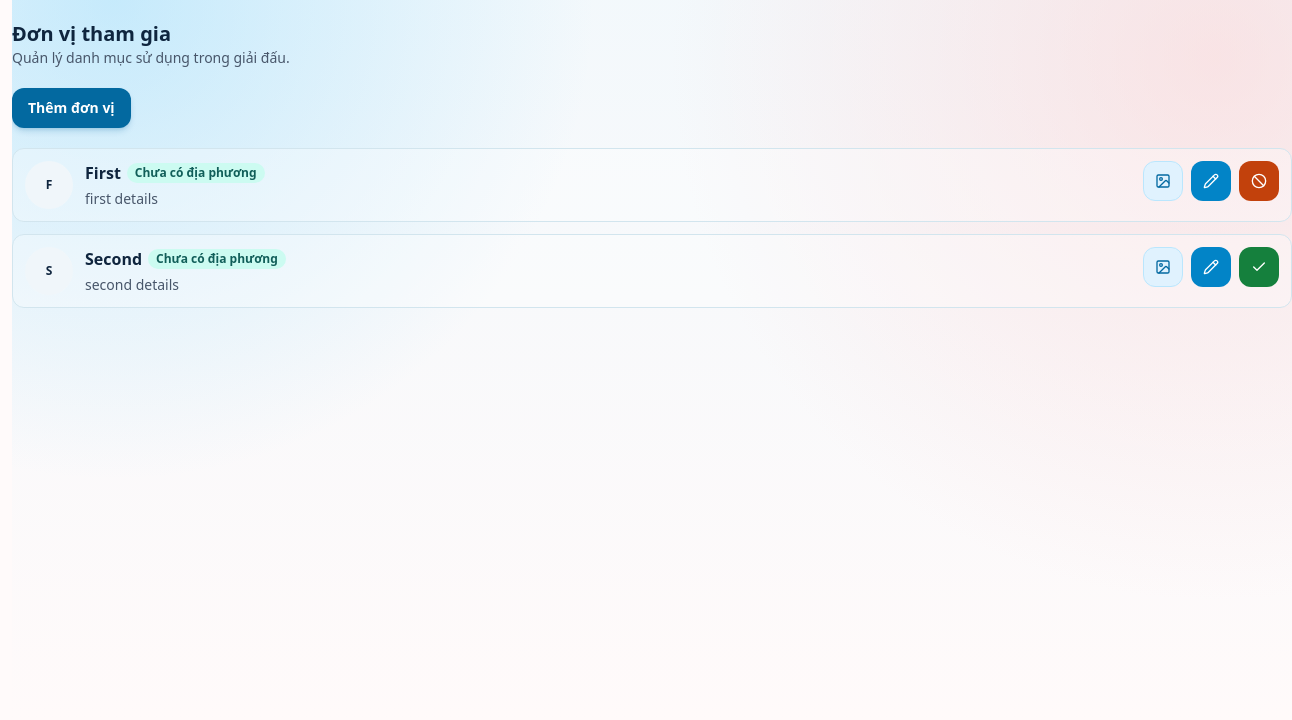
Test: RosterItemsPage › keeps failed updates for correction and shows the mapped error
Click the button named "Sửa" in the row of "first details".
click(1211, 181)  # box [1191,161,1231,201]
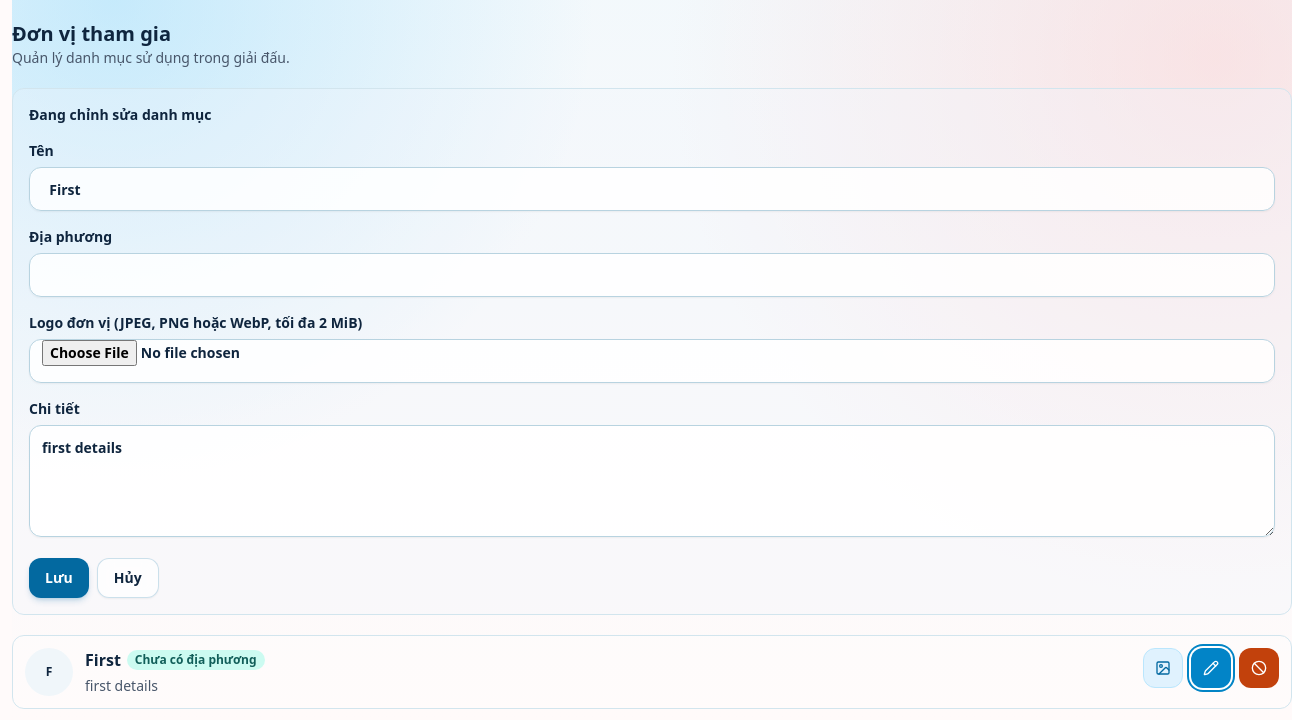
Replace the text in the field labelled "Tên" with "Changed" at (652,189), box [29,167,1275,211]
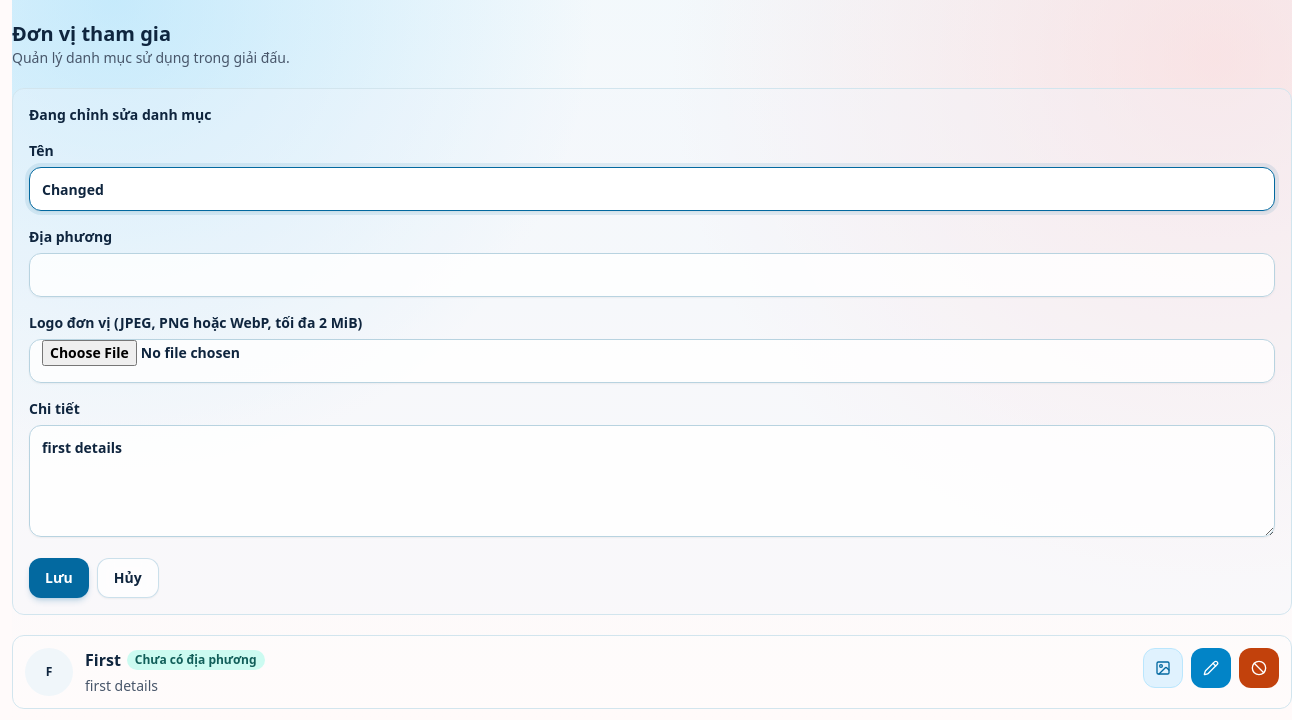
Click the button "Lưu".
click(59, 578)  # box [29,558,89,598]
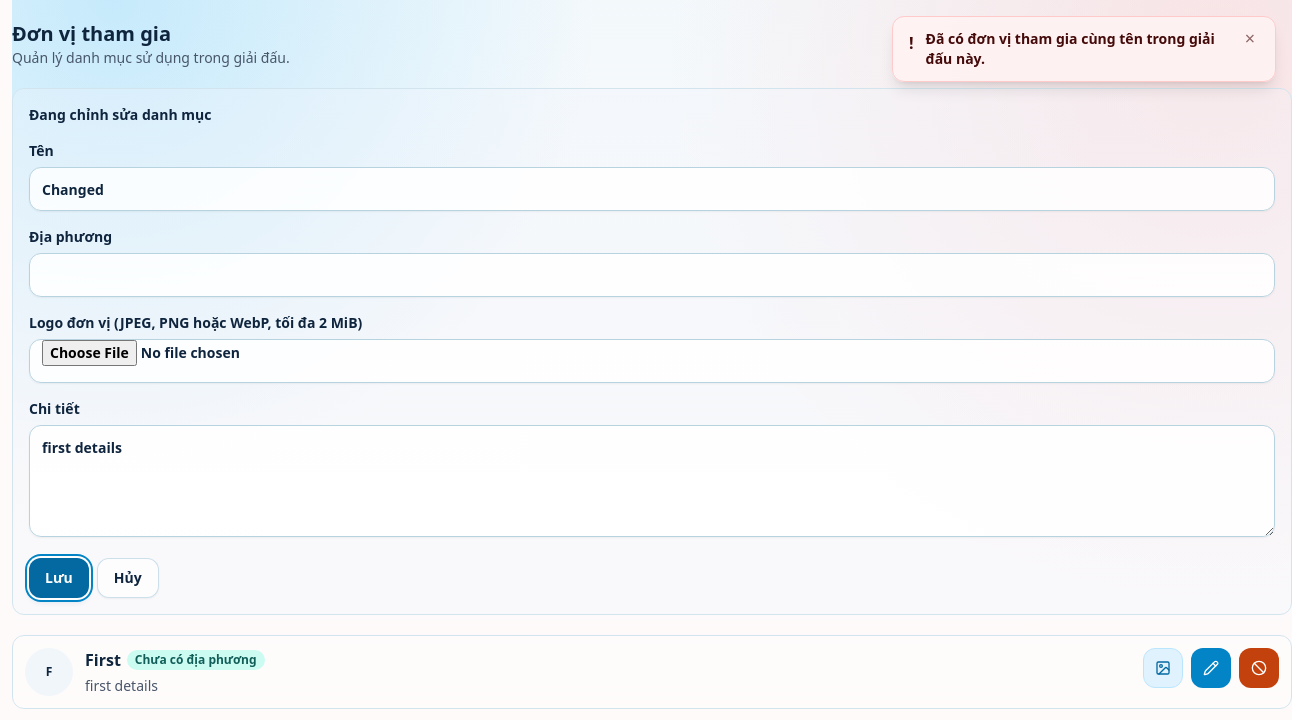
Check: the message shows "Đã có đơn vị tham gia cùng tên", box [926,29,1215,68]
